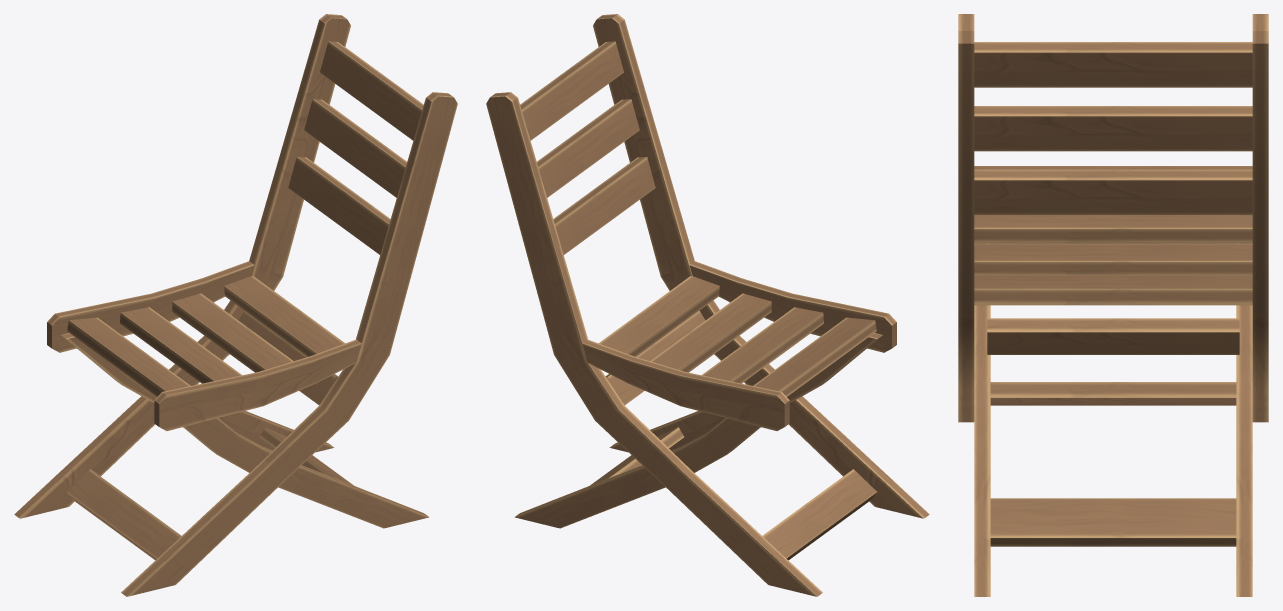
Rendered from obj_wood_chair.FBX.
3 views of the same model, side by side, from view 1: azimuth 30°, elevation 25°; view 2: azimuth 150°, elevation 25°; view 3: azimuth 270°, elevation 25° (orthographic). The views are drawn at different scales.
Visible parts, largest first — view 1: wood_chiar; view 2: wood_chiar; view 3: wood_chiar.
Boxes of the visible parts, x1,y1,x2,y2 form: wood_chiar: (14, 14, 457, 596); wood_chiar: (486, 14, 929, 596); wood_chiar: (958, 14, 1268, 596).
Bounding box in the file's own units: 14.36 × 17.59 × 8.46.
